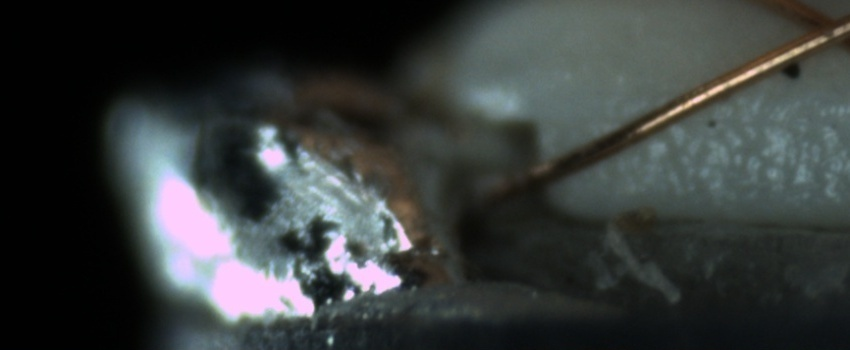CL: (777, 2, 850, 58)
